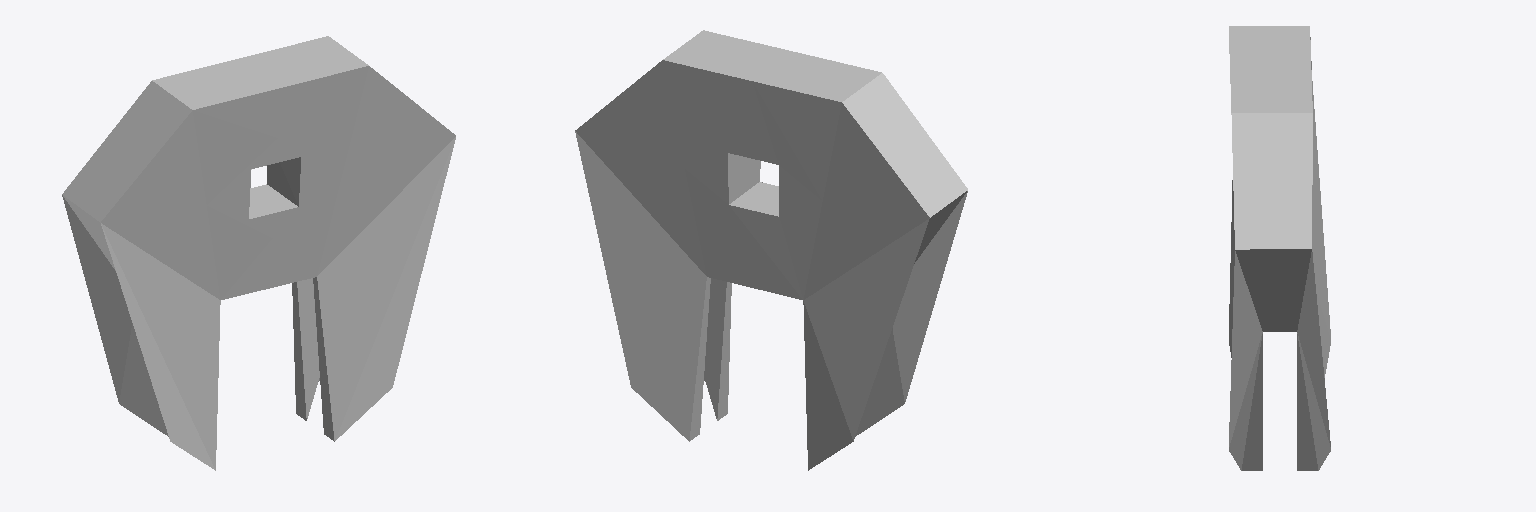
File: head.obj
3 renders of one model, left to right at view 1: azimuth 30°, elevation 25°; view 2: azimuth 150°, elevation 25°; view 3: azimuth 270°, elevation 25°, orthographic.
Visible parts, largest first — view 1: Cube; view 2: Cube; view 3: Cube.
Boxes of the visible parts, x1=… form: Cube: x1=62, y1=36, x2=455, y2=470; Cube: x1=575, y1=30, x2=967, y2=470; Cube: x1=1229, y1=26, x2=1330, y2=470.
Size of the model in its own units: 2 by 2 by 0.5.